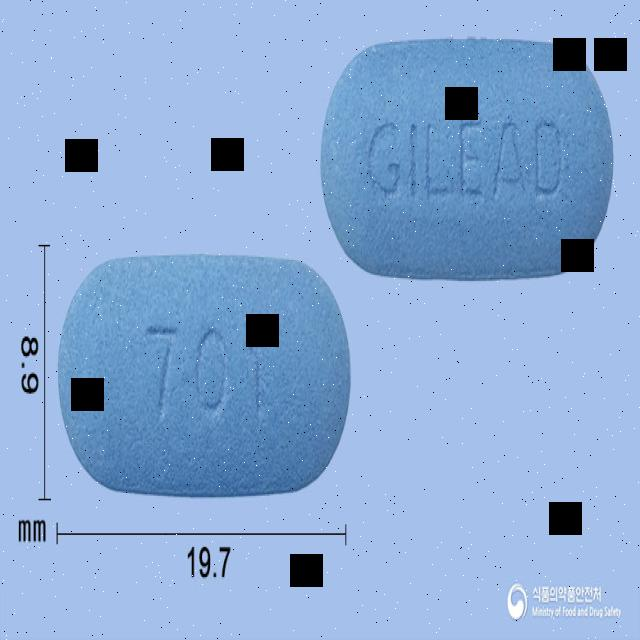Truvada Tab: (56, 254, 354, 497), (320, 36, 614, 279)
